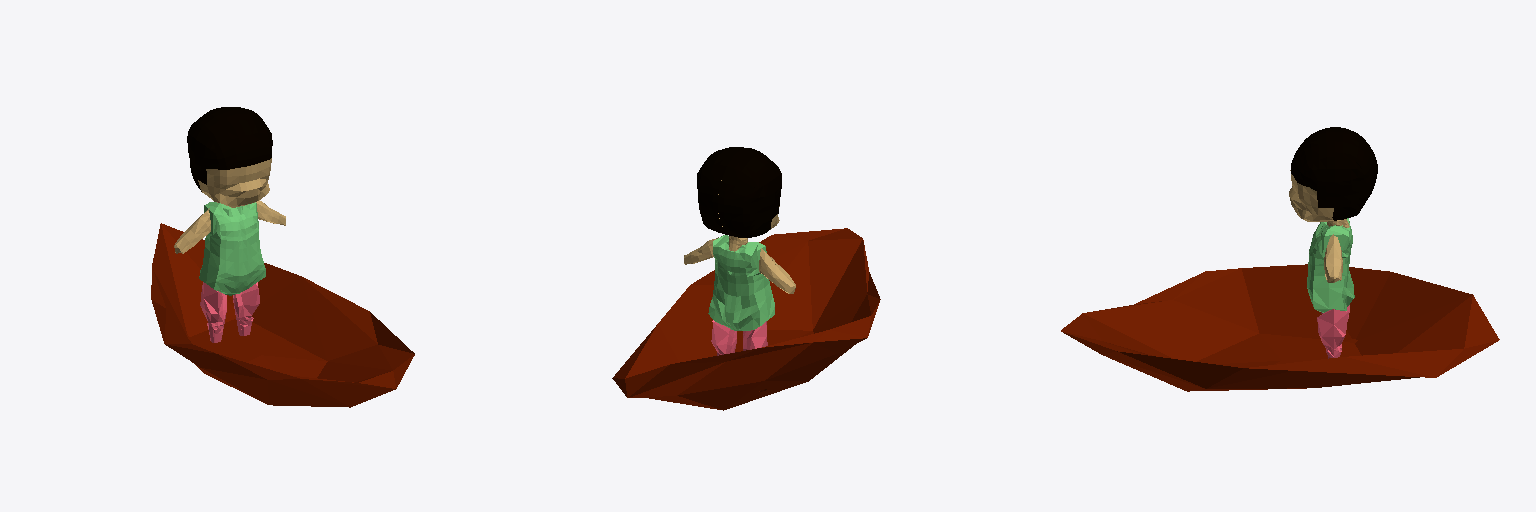
The model's file is player.obj.
The picture shows the model from 3 angles: view 1: azimuth 30°, elevation 25°; view 2: azimuth 150°, elevation 25°; view 3: azimuth 270°, elevation 25°; orthographic projection.
Parts seen in each view (by area): view 1: Icosphere, head_Cube.001, body_Cube.003, left-leg_Cube.013, right-leg_Cube.012, left-arm_Cube.006; view 2: Icosphere, head_Cube.001, body_Cube.003, left-arm_Cube.006, right-leg_Cube.012; view 3: Icosphere, head_Cube.001, body_Cube.003, right-leg_Cube.012, right-arm_Cube.005.
Part boxes in pixels (bbox=[...]): Icosphere: bbox=[151, 223, 414, 407]; head_Cube.001: bbox=[187, 107, 272, 207]; body_Cube.003: bbox=[199, 202, 265, 295]; left-leg_Cube.013: bbox=[200, 282, 226, 342]; right-leg_Cube.012: bbox=[233, 282, 259, 335]; left-arm_Cube.006: bbox=[174, 208, 210, 253]; Icosphere: bbox=[612, 228, 880, 410]; head_Cube.001: bbox=[697, 147, 781, 237]; body_Cube.003: bbox=[708, 235, 774, 330]; left-arm_Cube.006: bbox=[759, 248, 795, 293]; right-leg_Cube.012: bbox=[711, 320, 736, 355]; Icosphere: bbox=[1061, 264, 1499, 391]; head_Cube.001: bbox=[1289, 127, 1377, 221]; body_Cube.003: bbox=[1307, 218, 1354, 312]; right-leg_Cube.012: bbox=[1317, 309, 1348, 358]; right-arm_Cube.005: bbox=[1324, 234, 1342, 282].
Bounding box in the file's own units: 2.03 × 2.53 × 4.03.